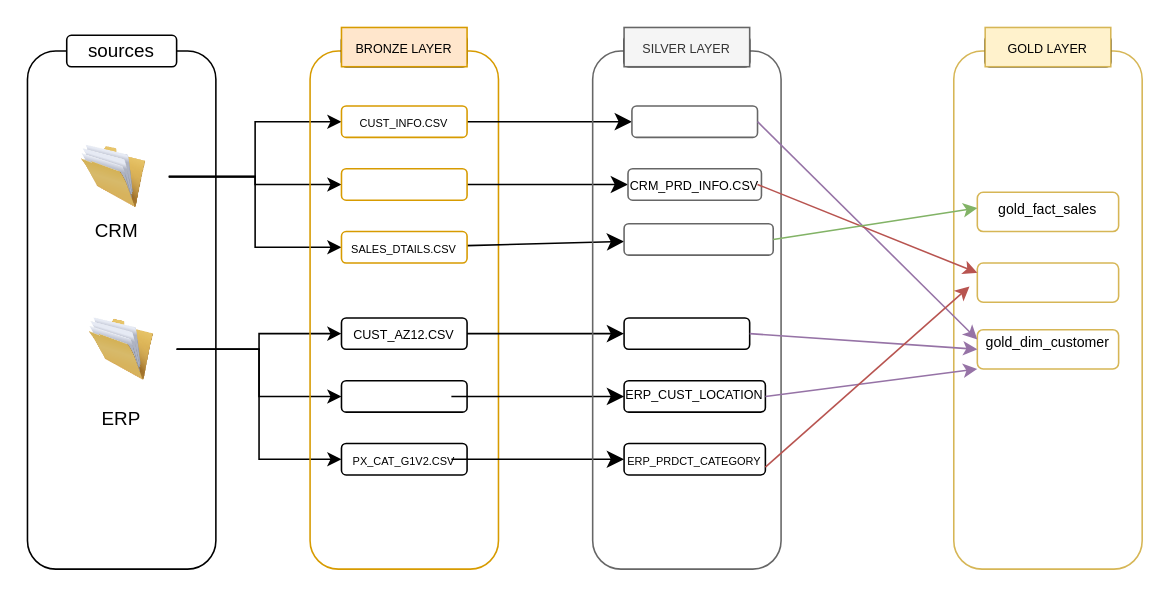
This 1170x597 diagram has some shape labels left out. Here are the shapes that lost their labels. From the top down, the centre of each, then its label:
(694,120): CRM_CUST_INFO.CSV
(403,183): PRD_INFO.CSV
(698,238): CRM_SALES_DTAILS.CSV
(1047,281): gold_dim_products
(686,332): ERP_CUST_INFO
(403,395): LOC_A101.CSC
